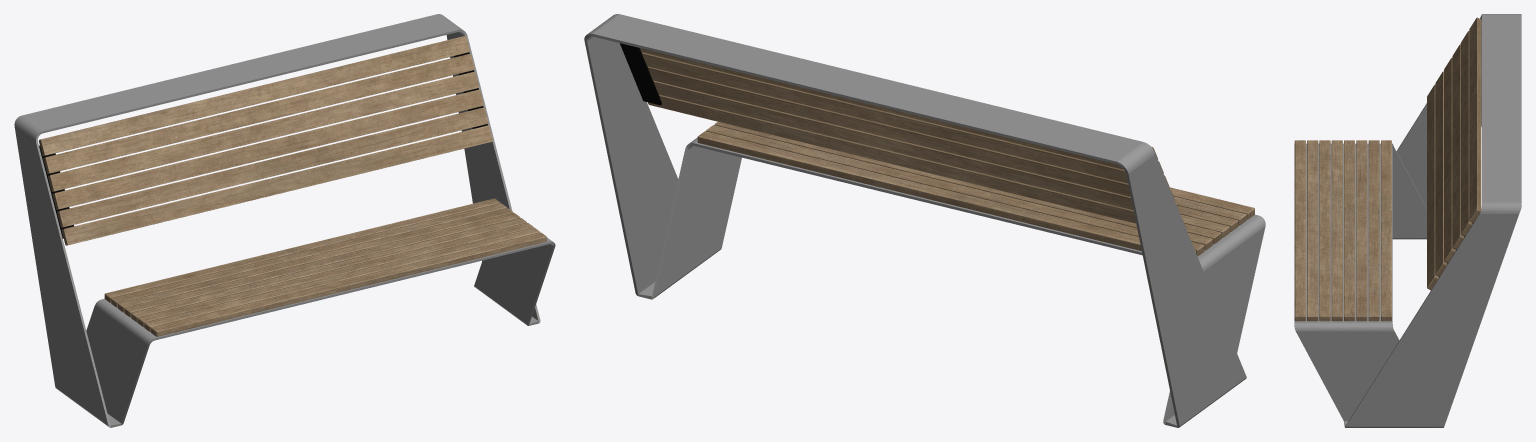
Rendered from bench_2_low_poly.glb.
The picture shows the model from 3 angles, left to right: view 1: azimuth 30°, elevation 25°; view 2: azimuth 150°, elevation 25°; view 3: azimuth 270°, elevation 25°; orthographic projection. The views are drawn at different scales.
Visible parts, largest first — view 1: Luca3D_Modern_Bench_2_0; view 2: Luca3D_Modern_Bench_2_0; view 3: Luca3D_Modern_Bench_2_0.
Part boxes in pixels (box(x1,y1,x2,y2)): Luca3D_Modern_Bench_2_0: box(14, 14, 555, 427); Luca3D_Modern_Bench_2_0: box(584, 14, 1265, 427); Luca3D_Modern_Bench_2_0: box(1294, 14, 1521, 427).
Bounding box in the file's own units: 2.14 × 1.14 × 1.06.
Materials: 2 (1 with a texture image).
